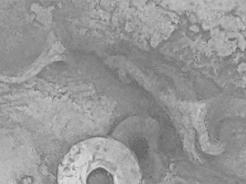crack: (1, 1, 246, 184)
